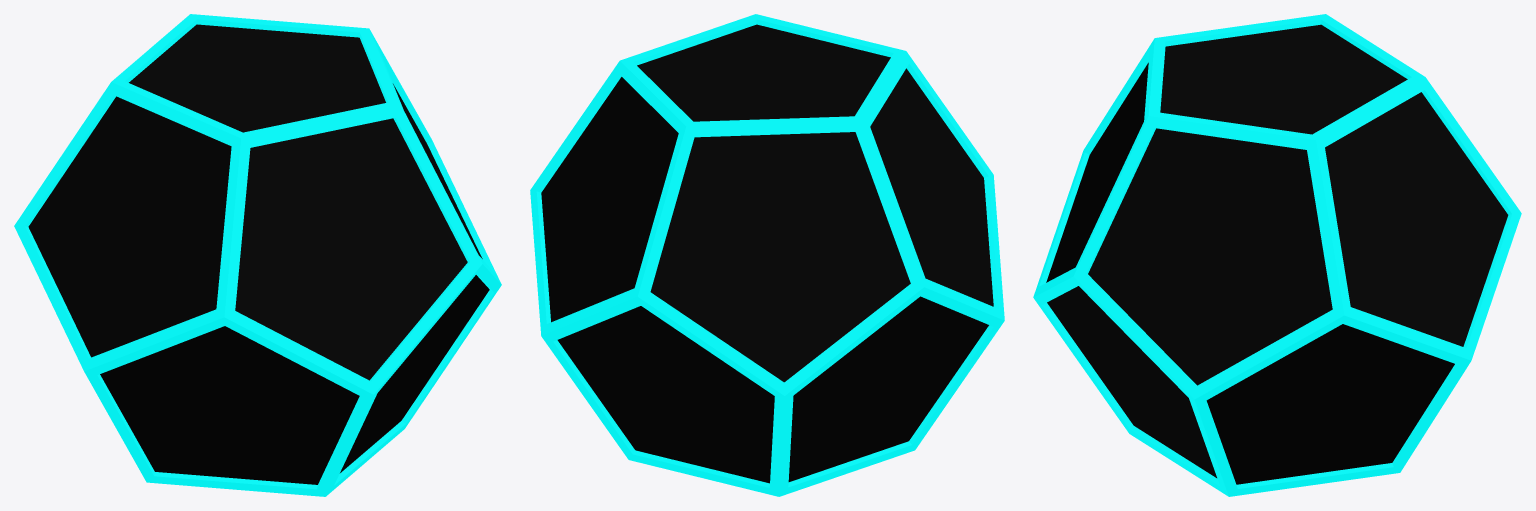
Rendered from SFI0210018.fbx.
3 renders of one model, left to right at view 1: azimuth 30°, elevation 25°; view 2: azimuth 150°, elevation 25°; view 3: azimuth 270°, elevation 25°, orthographic.
Visible parts, largest first — view 1: smSFI0210018; view 2: smSFI0210018; view 3: smSFI0210018.
Boxes of the visible parts, x1,y1,x2,y2 form: smSFI0210018: (14,14,501,496); smSFI0210018: (530,14,1004,496); smSFI0210018: (1033,14,1521,496).
Bounding box in the file's own units: 134 × 114 × 138.
